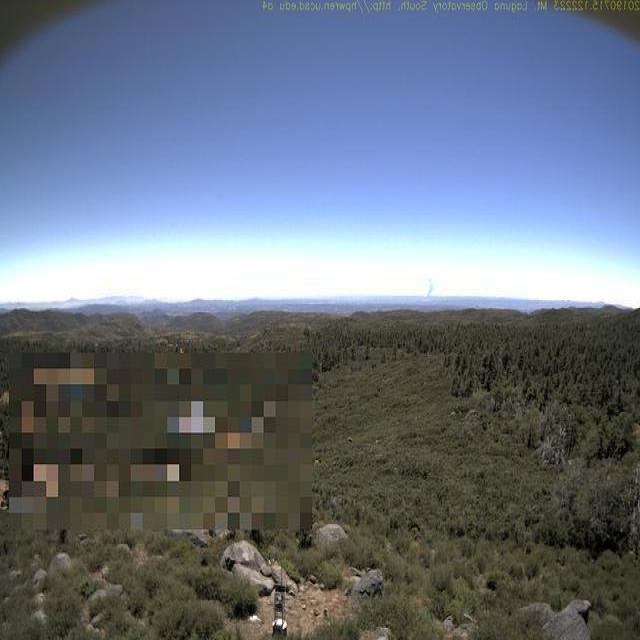Smoke: (422, 274, 441, 306)
